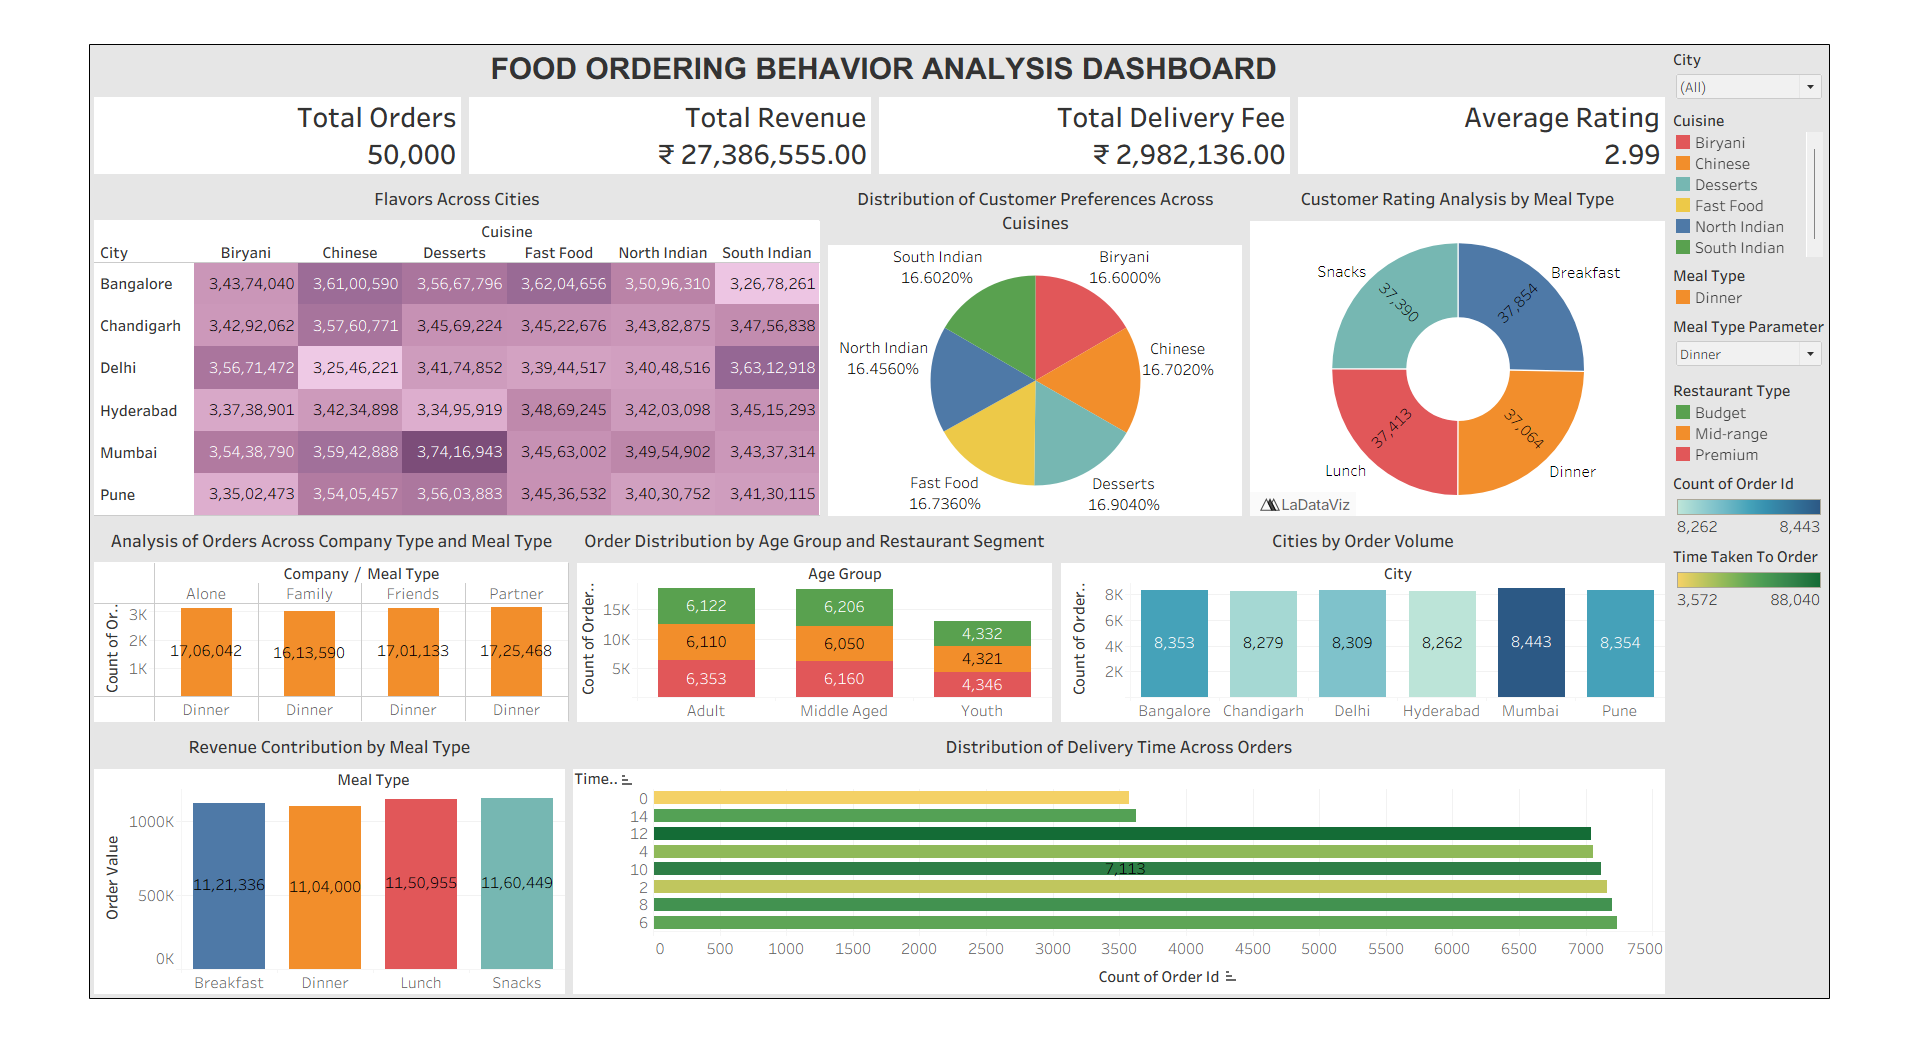

This screenshot's page, from the dashboard's own definition file:
{"tool":"tableau","page":{"name":" FOOD ORDERING BEHAVIOR ANALYSIS DASHBOARD","canvas":[1000,1000],"units":"permille","ordinal":0},"visuals":[{"type":"title","box":[5.4,9.3,892.6,49.4]},{"type":"filter","title":"Distribution of Customer Preferences Across Cuisines","param":"[federated.1q3vuit1me7gct19nww18032jlcv].[none:city:nk]","box":[898,9.3,96.6,62.8]},{"type":"worksheet","title":"Total Orders","mark":"Automatic","box":[5.4,58.7,211.9,87.3]},{"type":"worksheet","title":"Total Revenue","mark":"Automatic","box":[217.3,58.7,231.8,87.3]},{"type":"worksheet","title":"Total Delivery Fee","mark":"Automatic","box":[449.1,58.7,236.9,87.3]},{"type":"worksheet","title":"Average Rating","mark":"Automatic","box":[685.9,58.7,212.1,87.3]},{"type":"legend","title":"Distribution of Customer Preferences Across Cuisines","param":"[federated.1q3vuit1me7gct19nww18032jlcv].[none:cuisine:nk]","box":[898,72.1,96.6,159.6]},{"type":"worksheet","title":"Flavors Across Cities","mark":"Square","rows":["city"],"cols":["cuisine"],"box":[5.4,146,414.7,352.3]},{"type":"worksheet","title":"Distribution of Customer Preferences Across Cuisines","mark":"Pie","box":[420.1,146,238.9,352.3]},{"type":"worksheet","title":"Customer Rating Analysis by Meal Type","mark":"VizExtension","box":[659,146,239,352.3]},{"type":"legend","title":"Analysis of Orders Across Company Type and Meal Type","param":"[federated.1q3vuit1me7gct19nww18032jlcv].[none:meal_type:nk]","box":[898,231.7,96.6,52.5]},{"type":"filter","title":"Analysis of Orders Across Company Type and Meal Type","param":"[federated.1q3vuit1me7gct19nww18032jlcv].[none:meal_type:nk]","box":[898,284.2,96.6,65.9]},{"type":"legend","title":"Order Distribution by Age Group and Restaurant Segment","param":"[federated.1q3vuit1me7gct19nww18032jlcv].[none:restaurant_type:nk]","box":[898,350.2,96.6,95.8]},{"type":"legend","title":"Cities by Order Volume","param":"[federated.1q3vuit1me7gct19nww18032jlcv].[cnt:order_id:qk]","box":[898,445.9,96.6,75.2]},{"type":"worksheet","title":"Analysis of Orders Across Company Type and Meal Type","mark":"Bar","rows":["order_id"],"cols":["company","meal_type"],"box":[5.4,498.3,273.2,212.3]},{"type":"worksheet","title":"Order Distribution by Age Group and Restaurant Segment","mark":"Automatic","rows":["order_id"],"cols":["Calculation_0168247339044864"],"box":[278.7,498.3,273.3,212.3]},{"type":"worksheet","title":"Cities by Order Volume","mark":"Automatic","rows":["order_id"],"cols":["city"],"box":[552,498.3,346,212.3]},{"type":"legend","title":"Distribution of Delivery Time Across Orders","param":"[federated.1q3vuit1me7gct19nww18032jlcv].[sum:time_taken_to_order:qk]","box":[898,521.1,96.6,75.2]},{"type":"worksheet","title":"Revenue Contribution by Meal Type","mark":"Automatic","rows":["order_value"],"cols":["meal_type"],"box":[5.4,710.6,270.8,280.1]},{"type":"worksheet","title":"Distribution of Delivery Time Across Orders","mark":"Bar","rows":["Time Taken To Order (bin)"],"cols":["order_id"],"box":[276.3,710.6,621.7,280.1]}]}

Visuals, with their boxes on the dashboard's canvas, which has no fixed pixel size, in thousandths of its width and height (x1, y1, x2, y2). These are canvas units, not pixel positions in the 1919x1038 screenshot, which may show the page scaled, cropped or inside an application window:
title: (5,9,898,59)
"Distribution of Customer Preferences Across Cuisines" filter: (898,9,995,72)
"Total Orders" worksheet: (5,59,217,146)
"Total Revenue" worksheet: (217,59,449,146)
"Total Delivery Fee" worksheet: (449,59,686,146)
"Average Rating" worksheet: (686,59,898,146)
"Distribution of Customer Preferences Across Cuisines" legend: (898,72,995,232)
"Flavors Across Cities" worksheet (Square marks): (5,146,420,498)
"Distribution of Customer Preferences Across Cuisines" worksheet (Pie marks): (420,146,659,498)
"Customer Rating Analysis by Meal Type" worksheet (VizExtension marks): (659,146,898,498)
"Analysis of Orders Across Company Type and Meal Type" legend: (898,232,995,284)
"Analysis of Orders Across Company Type and Meal Type" filter: (898,284,995,350)
"Order Distribution by Age Group and Restaurant Segment" legend: (898,350,995,446)
"Cities by Order Volume" legend: (898,446,995,521)
"Analysis of Orders Across Company Type and Meal Type" worksheet (Bar marks): (5,498,279,711)
"Order Distribution by Age Group and Restaurant Segment" worksheet: (279,498,552,711)
"Cities by Order Volume" worksheet: (552,498,898,711)
"Distribution of Delivery Time Across Orders" legend: (898,521,995,596)
"Revenue Contribution by Meal Type" worksheet: (5,711,276,991)
"Distribution of Delivery Time Across Orders" worksheet (Bar marks): (276,711,898,991)
